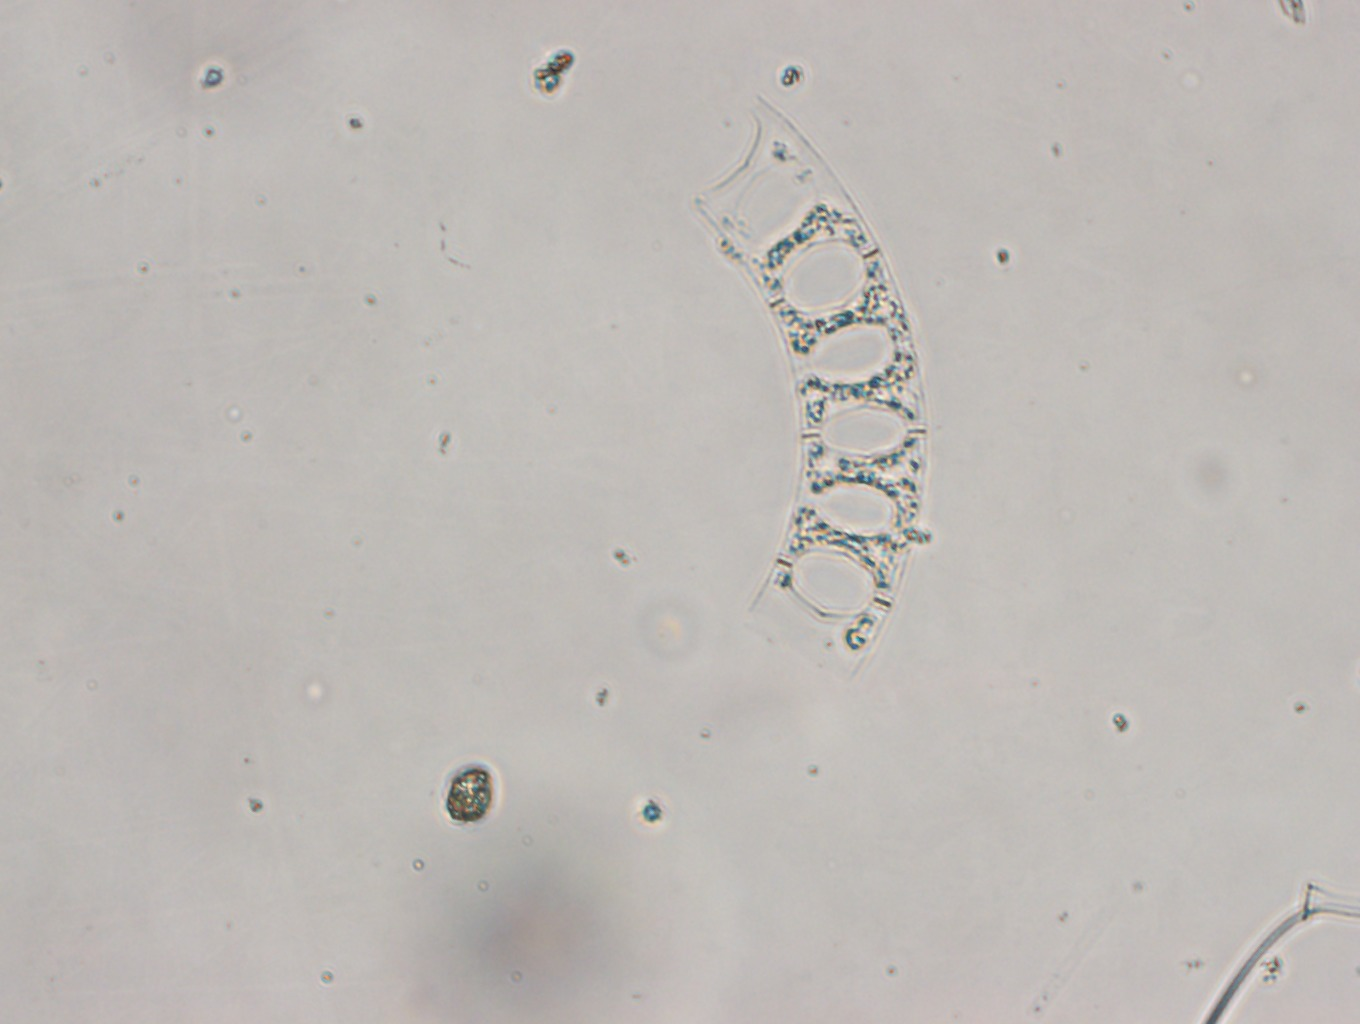eucampia: (691, 95, 927, 675)
